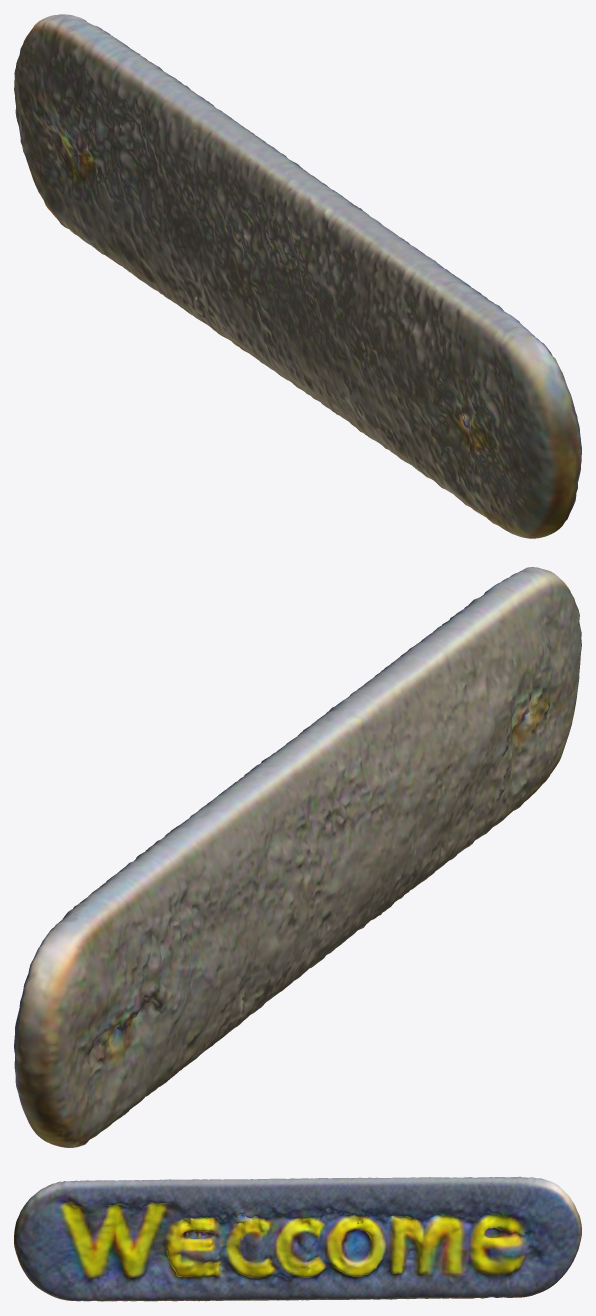
Rendered from welcome.glb.
3 views of the same model, one above another, from view 1: azimuth 30°, elevation 25°; view 2: azimuth 150°, elevation 25°; view 3: azimuth 270°, elevation 25° (orthographic). The views are drawn at different scales.
Visible parts, largest first — view 1: Mesh1; view 2: Mesh1; view 3: Mesh1.
Boxes of the visible parts, x1,y1,x2,y2 form: Mesh1: (14,14,581,538); Mesh1: (14,567,581,1147); Mesh1: (14,1176,581,1301).
Bounding box in the file's own units: 0.1037 × 0.2746 × 1.2.
Materials: 1 (1 with a texture image).
